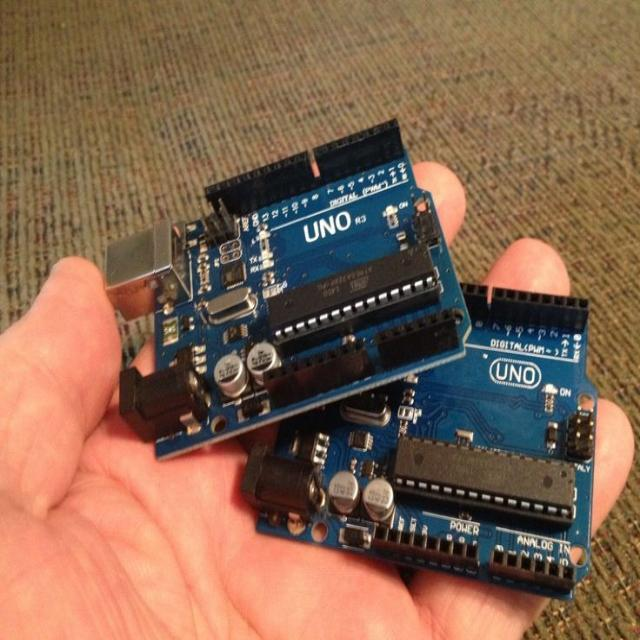Arduino: (100, 103, 491, 487), (230, 275, 615, 614)
